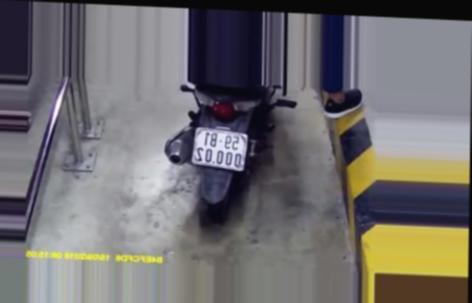License_Plate: (190, 126, 252, 174)
